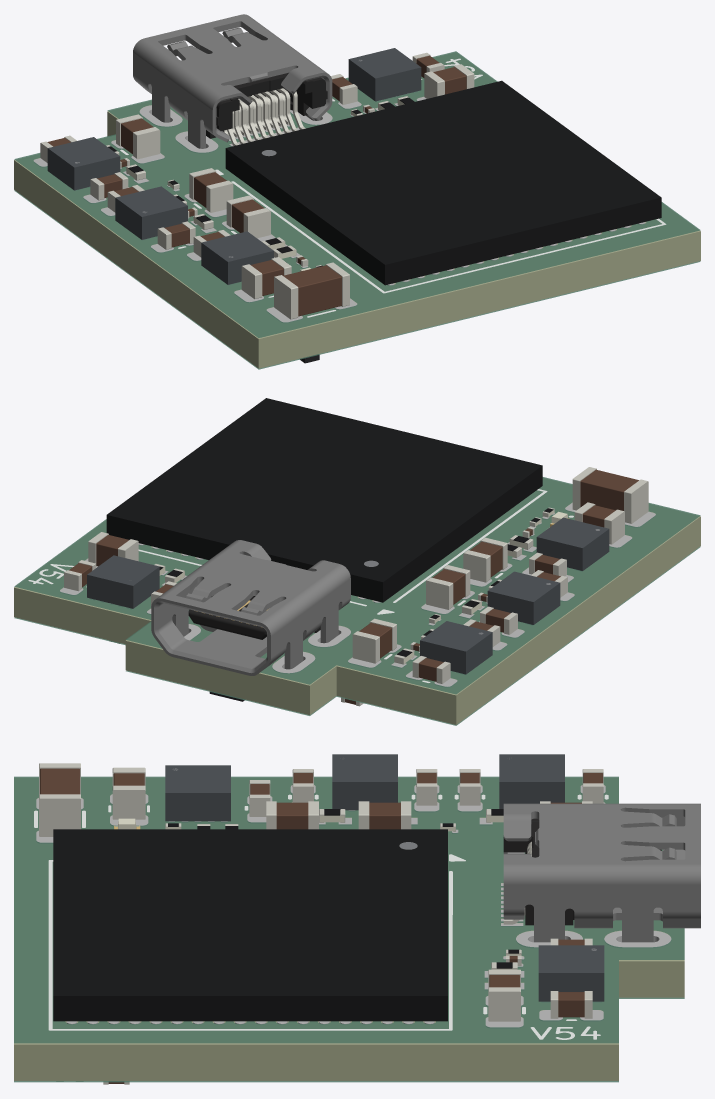
Rendered from fpga-v54-public.glb.
3 views of the same model, one above another, from view 1: azimuth 30°, elevation 25°; view 2: azimuth 150°, elevation 25°; view 3: azimuth 270°, elevation 25° (orthographic). The views are drawn at different scales.
Visible parts, largest first — view 1: U1, FPGA35T_V54_Dual_60_Direct_Interface_PCB, FPGA35T_V54_Dual_60_Direct_Interface_soldermask (×2), J3, FPGA35T_V54_Dual_60_Direct_Interface_pad, C4, U4, U3, U2, U13, C15, FPGA35T_V54_Dual_60_Direct_Interface_silkscreen (+7 smaller); view 2: U1, FPGA35T_V54_Dual_60_Direct_Interface_PCB, FPGA35T_V54_Dual_60_Direct_Interface_soldermask (×2), J3, FPGA35T_V54_Dual_60_Direct_Interface_pad, U4, C4, U13, U2, U3, C10, C15 (+8 smaller); view 3: U1, FPGA35T_V54_Dual_60_Direct_Interface_PCB, FPGA35T_V54_Dual_60_Direct_Interface_soldermask (×2), J3, FPGA35T_V54_Dual_60_Direct_Interface_pad, U13, U2, U4, U3, FPGA35T_V54_Dual_60_Direct_Interface_silkscreen, C4, C85 (+9 smaller).
Boxes of the visible parts, box(x1,y1,x2,y2) form: U1: box(225, 80, 661, 285); FPGA35T_V54_Dual_60_Direct_Interface_PCB: box(14, 53, 700, 368); FPGA35T_V54_Dual_60_Direct_Interface_soldermask (×2): box(14, 51, 700, 369); J3: box(133, 14, 332, 148); FPGA35T_V54_Dual_60_Direct_Interface_pad: box(33, 92, 645, 322); C4: box(274, 262, 349, 319); U4: box(348, 48, 421, 101); U3: box(47, 137, 120, 190); U2: box(115, 186, 187, 239); U13: box(201, 231, 273, 284); C15: box(116, 114, 160, 159); FPGA35T_V54_Dual_60_Direct_Interface_silkscreen: box(120, 58, 666, 317); U1: box(106, 398, 542, 602); FPGA35T_V54_Dual_60_Direct_Interface_PCB: box(14, 478, 700, 724); FPGA35T_V54_Dual_60_Direct_Interface_soldermask (×2): box(14, 477, 700, 725); J3: box(151, 540, 350, 675); FPGA35T_V54_Dual_60_Direct_Interface_pad: box(60, 503, 655, 686); U4: box(87, 555, 159, 608); C4: box(572, 467, 648, 523); U13: box(536, 517, 609, 570); U2: box(487, 571, 560, 624); U3: box(420, 621, 492, 674); C10: box(426, 565, 470, 609); C15: box(352, 618, 396, 663); U1: box(53, 829, 447, 1021); FPGA35T_V54_Dual_60_Direct_Interface_PCB: box(14, 778, 684, 1080); FPGA35T_V54_Dual_60_Direct_Interface_soldermask (×2): box(14, 776, 684, 1082); J3: box(503, 803, 700, 942); FPGA35T_V54_Dual_60_Direct_Interface_pad: box(36, 785, 671, 1027); U13: box(165, 765, 230, 821); U2: box(332, 754, 397, 810); U4: box(538, 945, 604, 1001); U3: box(499, 754, 564, 808); FPGA35T_V54_Dual_60_Direct_Interface_silkscreen: box(34, 794, 608, 1039); C4: box(39, 763, 80, 836); C85: box(112, 767, 145, 819).
Bounding box in the file's own units: 0.024 × 0.0056 × 0.0261.
